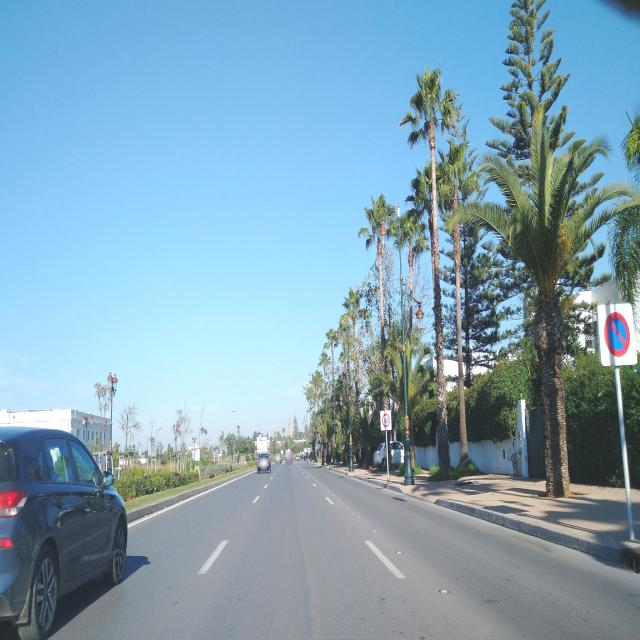car: (0, 423, 128, 640), (373, 439, 405, 472), (257, 449, 271, 474)
